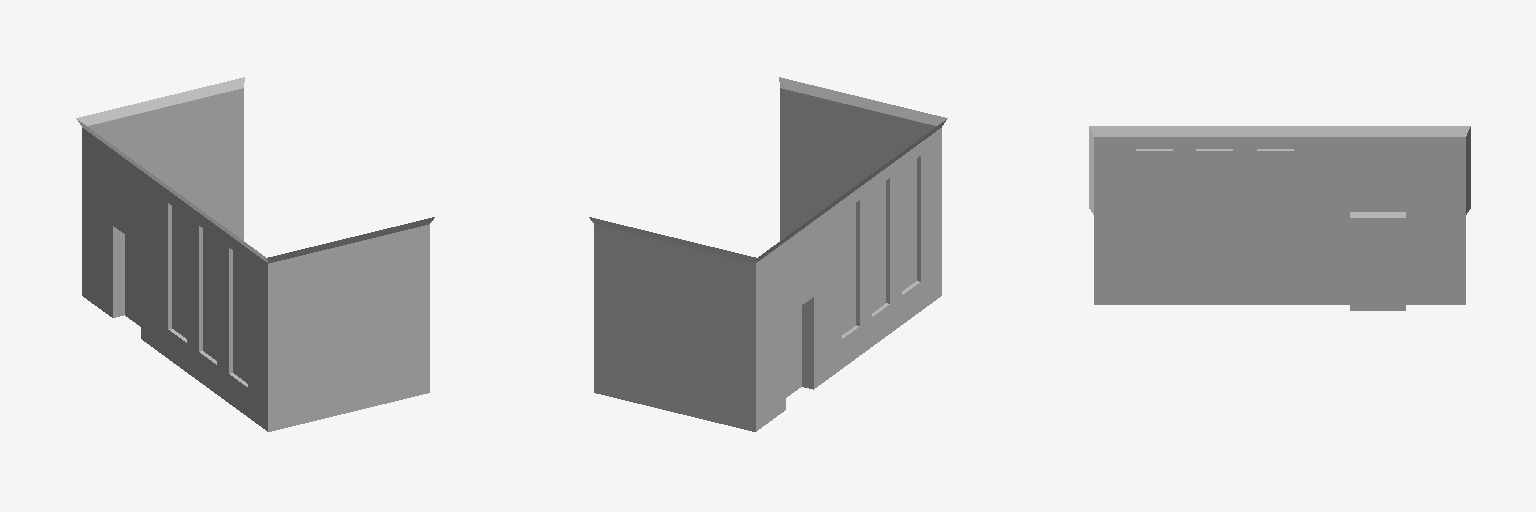
Rendered from industry_build_5.obj.
The picture shows the model from 3 angles: view 1: azimuth 30°, elevation 25°; view 2: azimuth 150°, elevation 25°; view 3: azimuth 270°, elevation 25°; orthographic projection.
Visible parts, largest first — view 1: IndustryBuild5_00; view 2: IndustryBuild5_00; view 3: IndustryBuild5_00.
Part boxes in pixels (x1,y1,x2,y2): IndustryBuild5_00: (76,77,434,431); IndustryBuild5_00: (589,77,947,431); IndustryBuild5_00: (1089,126,1470,310).
Bounding box in the file's own units: 4.2 × 4.2 × 8.2.